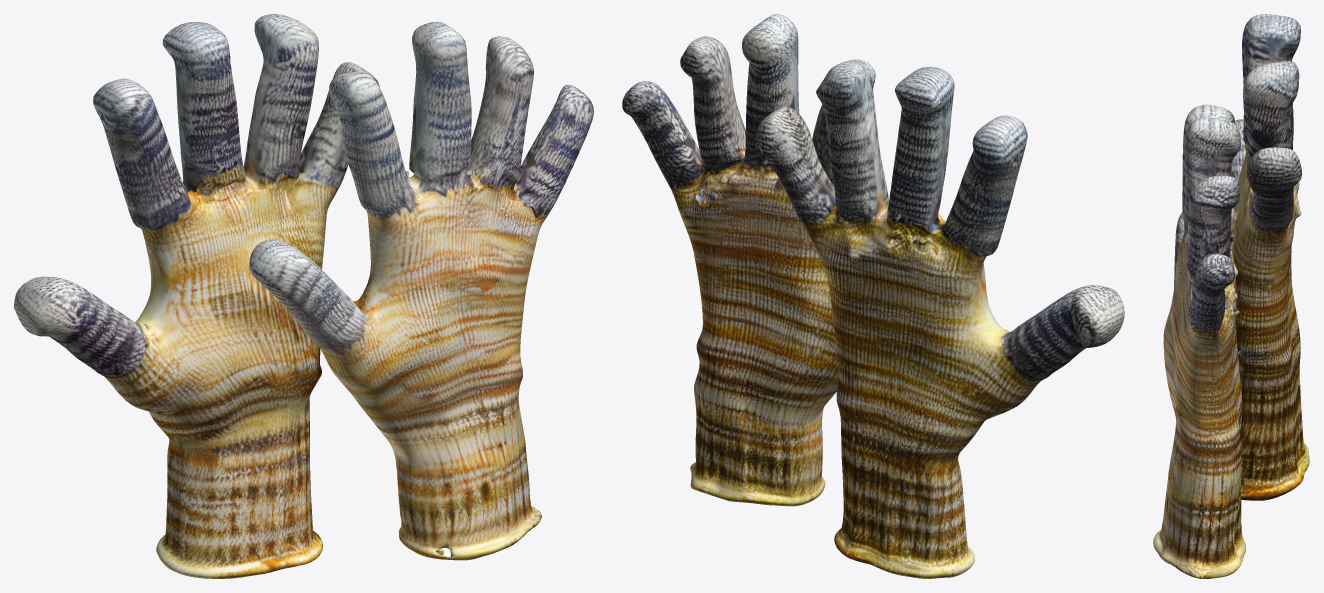
File: 02-3d.glb.glb
3 views of the same model, side by side, from view 1: azimuth 30°, elevation 25°; view 2: azimuth 150°, elevation 25°; view 3: azimuth 270°, elevation 25° (orthographic). The views are drawn at different scales.
Visible parts, largest first — view 1: geometry_0; view 2: geometry_0; view 3: geometry_0.
Boxes of the visible parts, x1,y1,x2,y2 form: geometry_0: [14, 14, 593, 578]; geometry_0: [622, 14, 1124, 578]; geometry_0: [1153, 14, 1309, 578].
Bounding box in the file's own units: 1.87 × 1.75 × 0.5573.
Materials: 1 (1 with a texture image).
